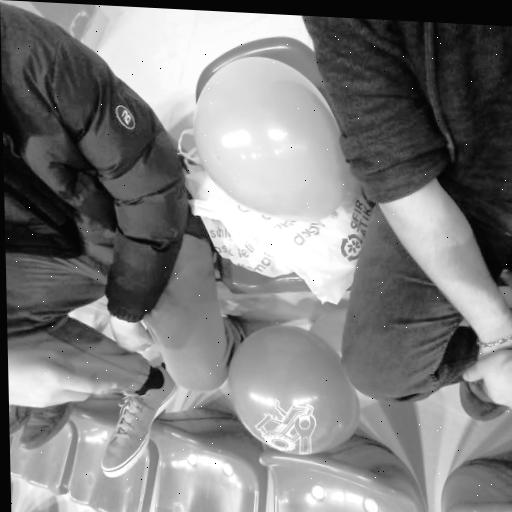balloon: (189, 52, 347, 223), (228, 321, 362, 459)
